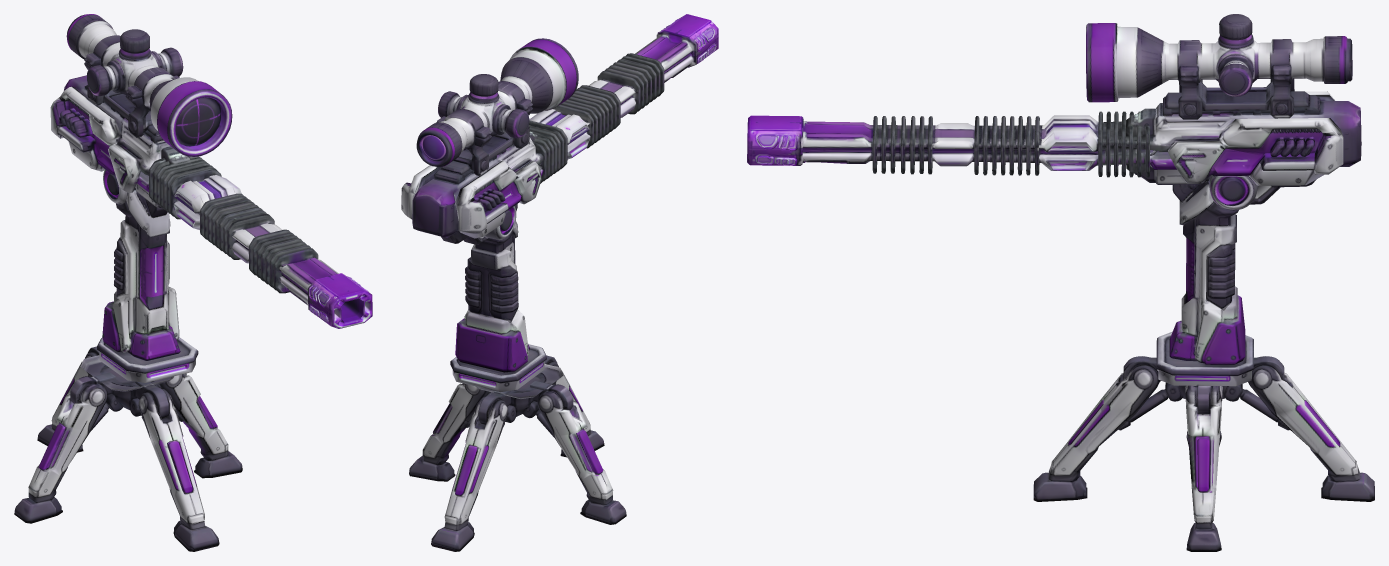
File: Modle_Tower_Sniper.fbx
The picture shows the model from 3 angles, left to right: view 1: azimuth 30°, elevation 25°; view 2: azimuth 150°, elevation 25°; view 3: azimuth 270°, elevation 25°; orthographic projection. The views are drawn at different scales.
Visible parts, largest first — view 1: Tower_Sniper_Head, Tower_Sniper_Base, Tower_Sniper_Mount; view 2: Tower_Sniper_Head, Tower_Sniper_Base, Tower_Sniper_Mount; view 3: Tower_Sniper_Head, Tower_Sniper_Base, Tower_Sniper_Mount.
Part boxes in pixels (left/top/right/bottom): Tower_Sniper_Head: left=50, top=14, right=372, bottom=328; Tower_Sniper_Base: left=14, top=346, right=242, bottom=551; Tower_Sniper_Mount: left=97, top=189, right=198, bottom=382; Tower_Sniper_Head: left=401, top=14, right=718, bottom=244; Tower_Sniper_Base: left=409, top=355, right=626, bottom=551; Tower_Sniper_Mount: left=450, top=221, right=546, bottom=392; Tower_Sniper_Head: left=747, top=14, right=1361, bottom=210; Tower_Sniper_Base: left=1033, top=356, right=1374, bottom=551; Tower_Sniper_Mount: left=1156, top=182, right=1253, bottom=386.
Bounding box in the file's own units: 1.45 × 2.83 × 3.31.
